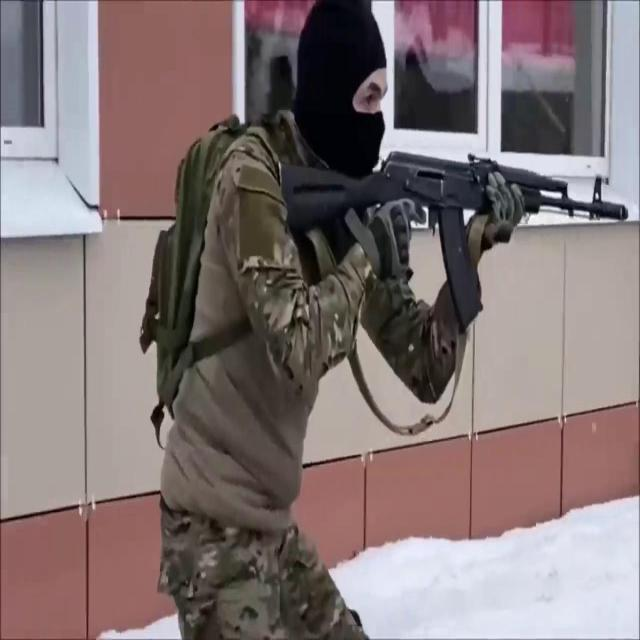gun: (157, 0, 630, 640), (277, 145, 630, 334)
